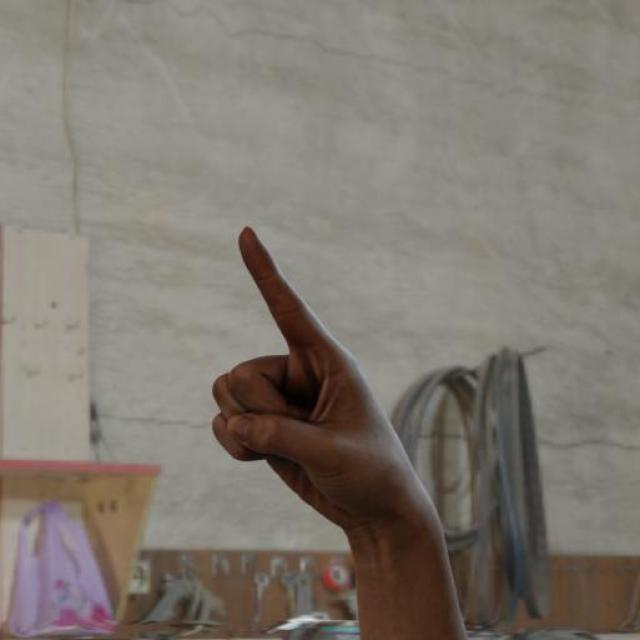Z: (165, 172, 420, 558)
